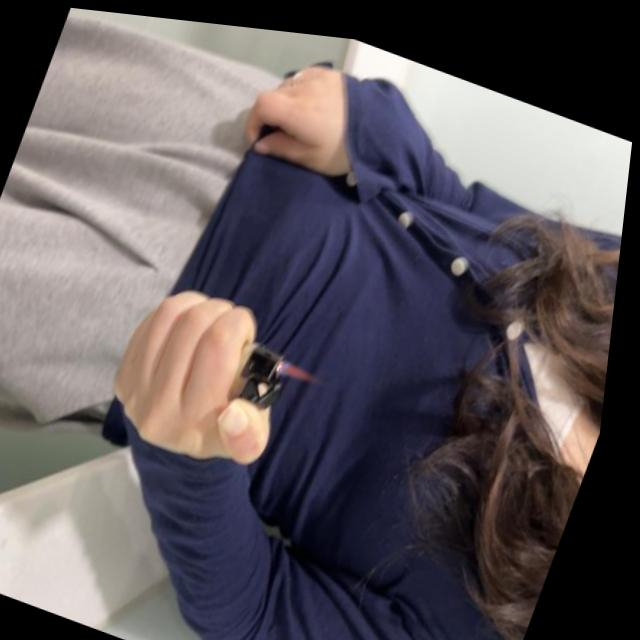Fire: (281, 350, 331, 380)
